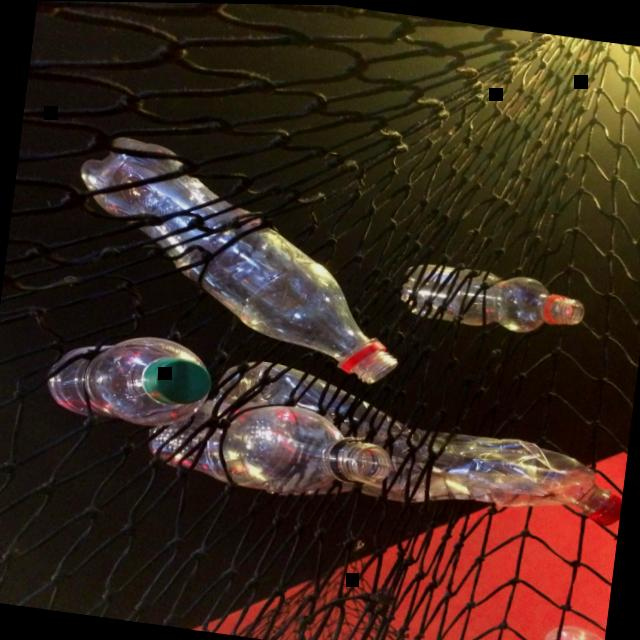Clear plastic bottle: (81, 137, 397, 382), (212, 360, 614, 524), (148, 398, 391, 492), (47, 336, 210, 425), (400, 262, 583, 330), (545, 624, 604, 640)
Plastic bottle cap: (146, 357, 210, 405)
